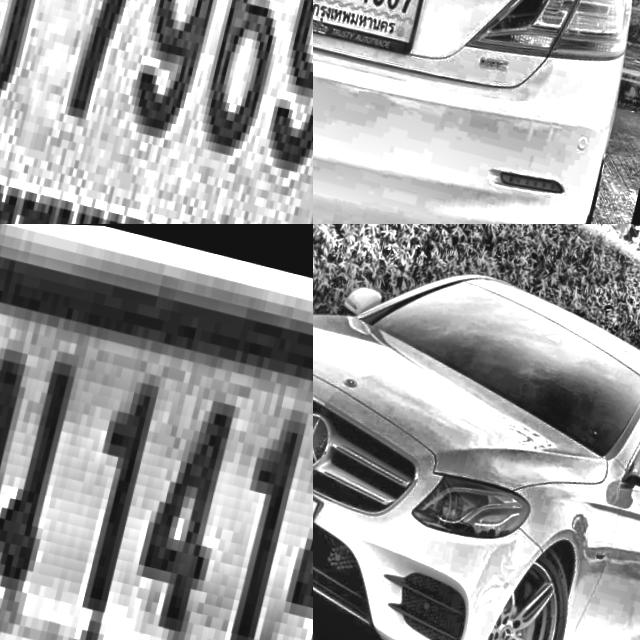license-plate: (0, 224, 313, 640), (0, 0, 313, 224), (313, 0, 435, 55)
